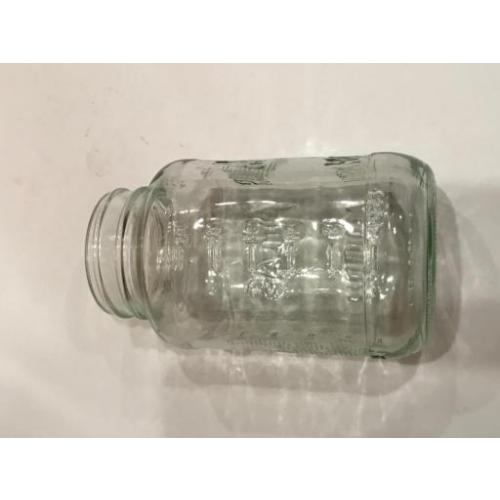glass: (86, 151, 434, 357)
